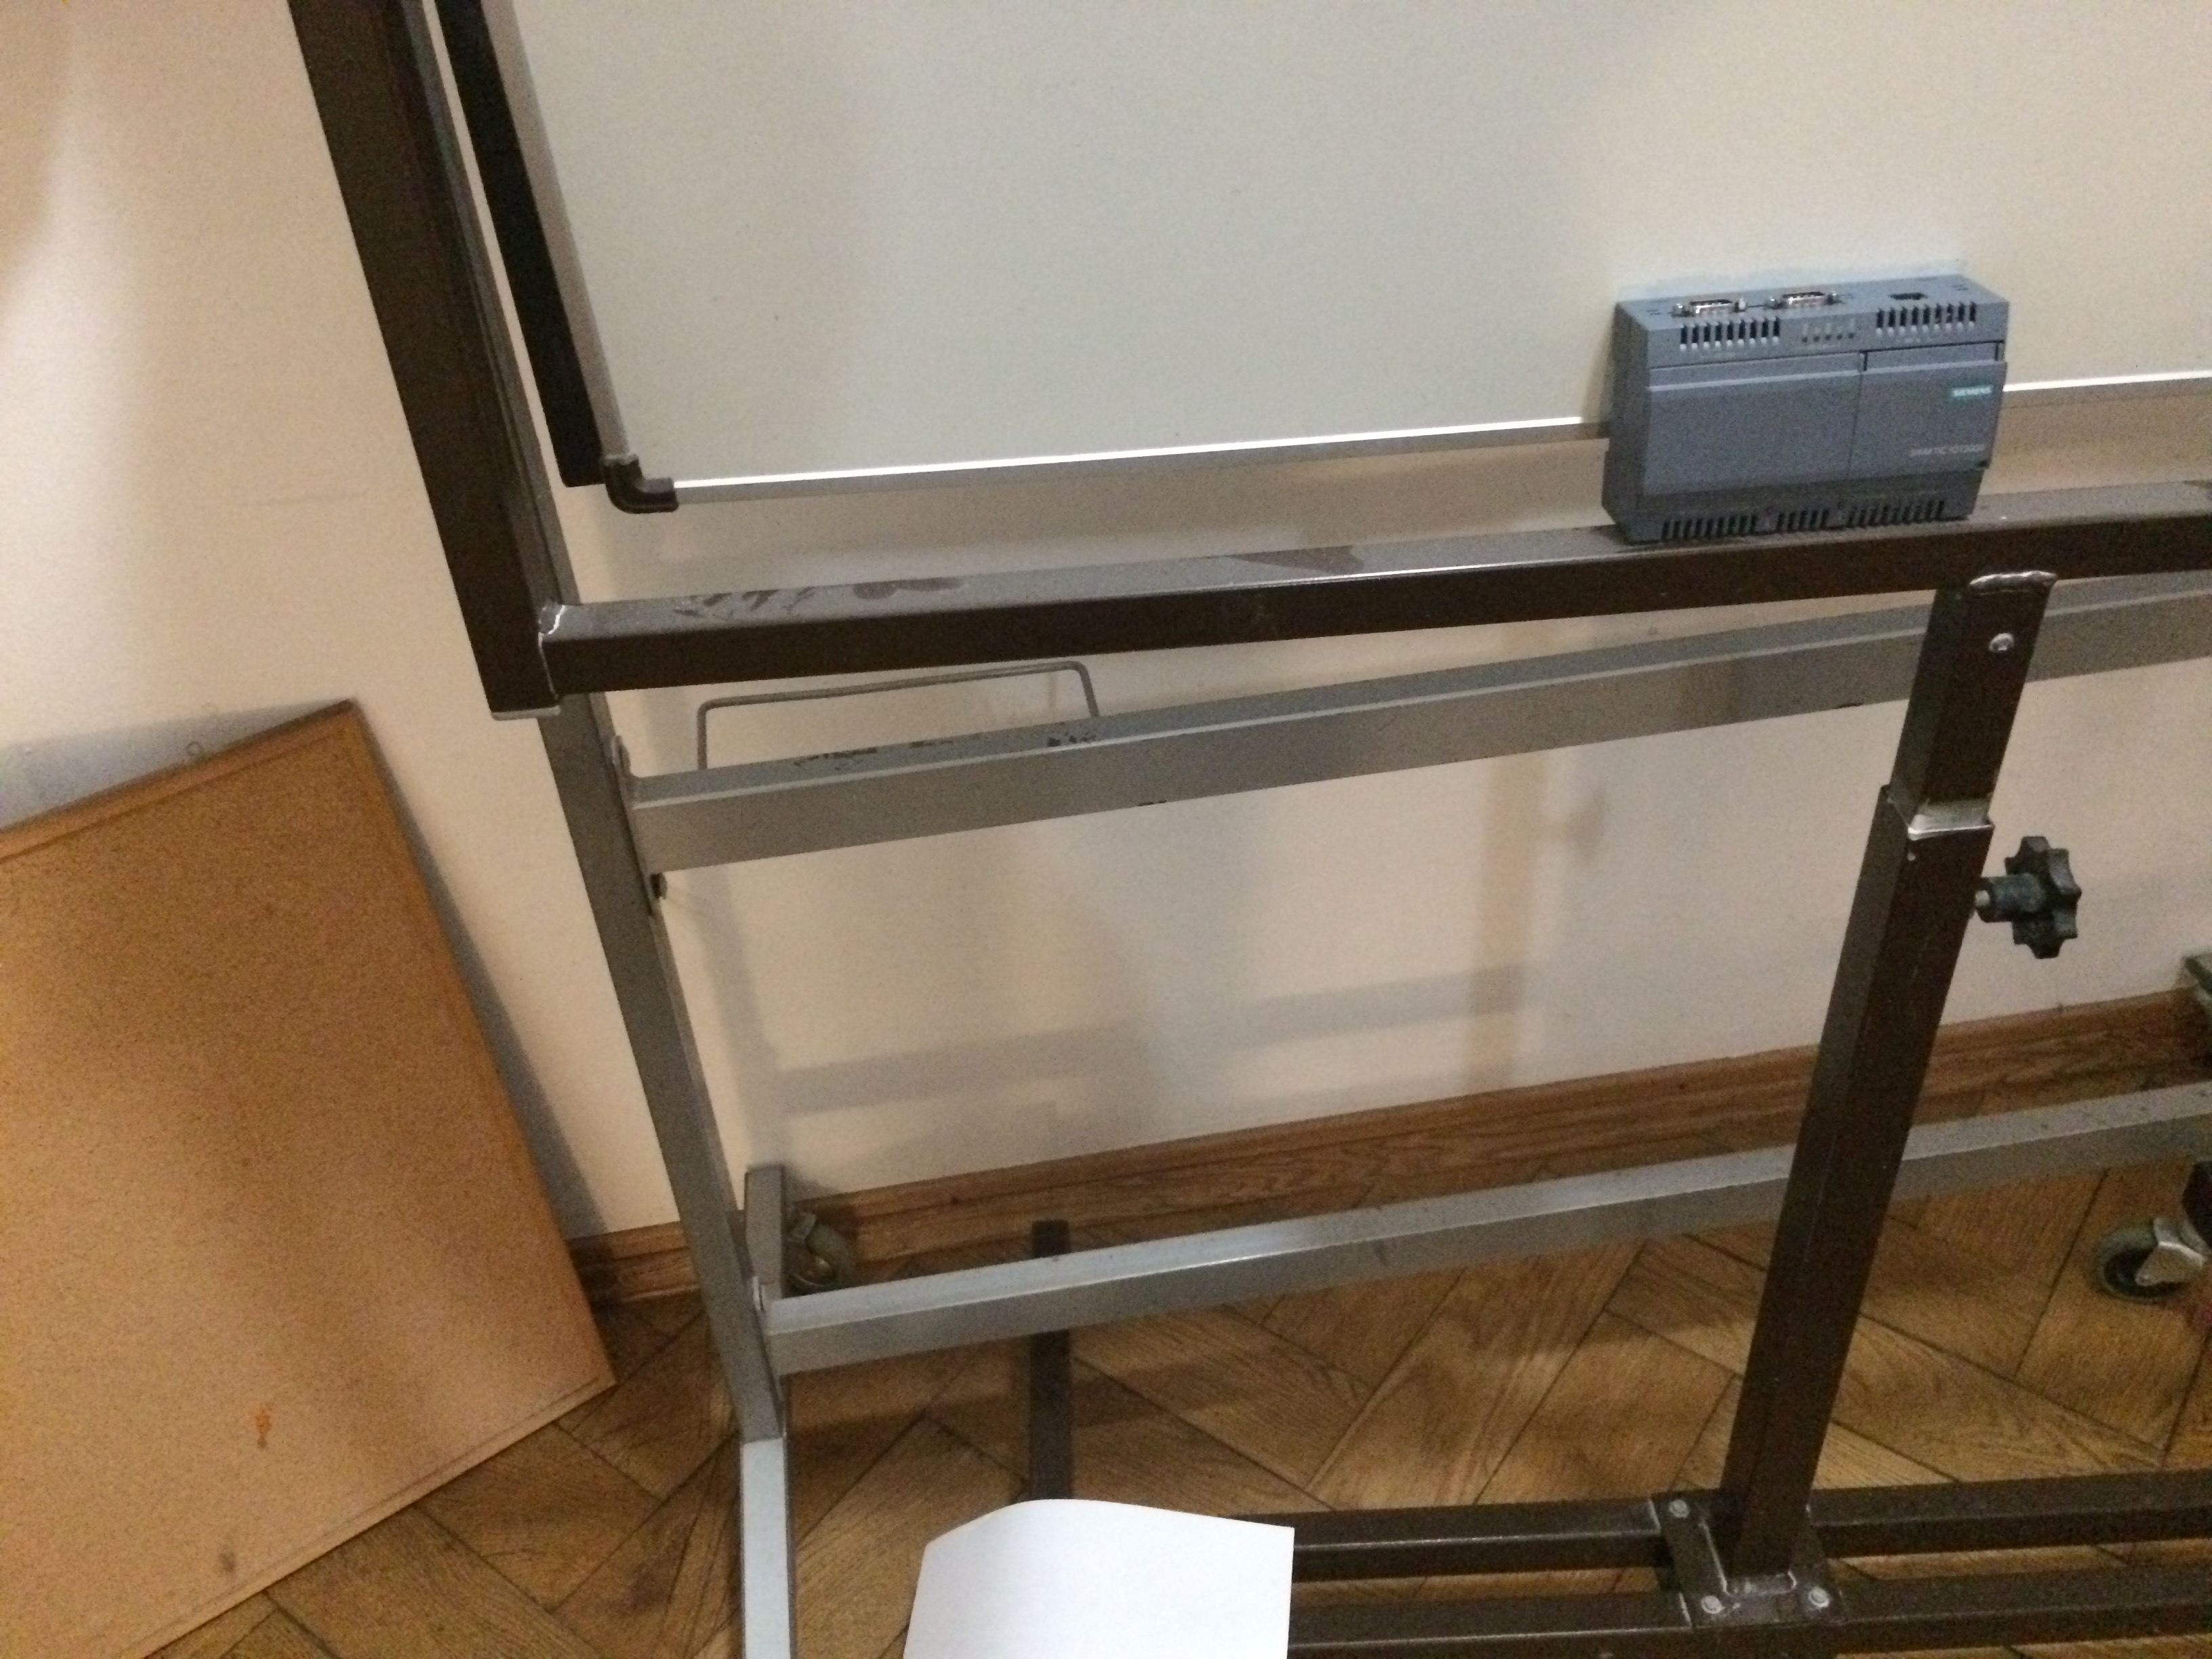iot2000: (1599, 268, 2012, 549)
